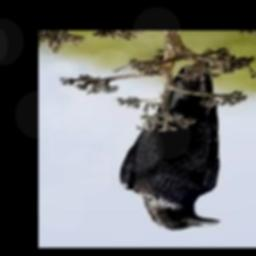Crow: (120, 59, 220, 230)
